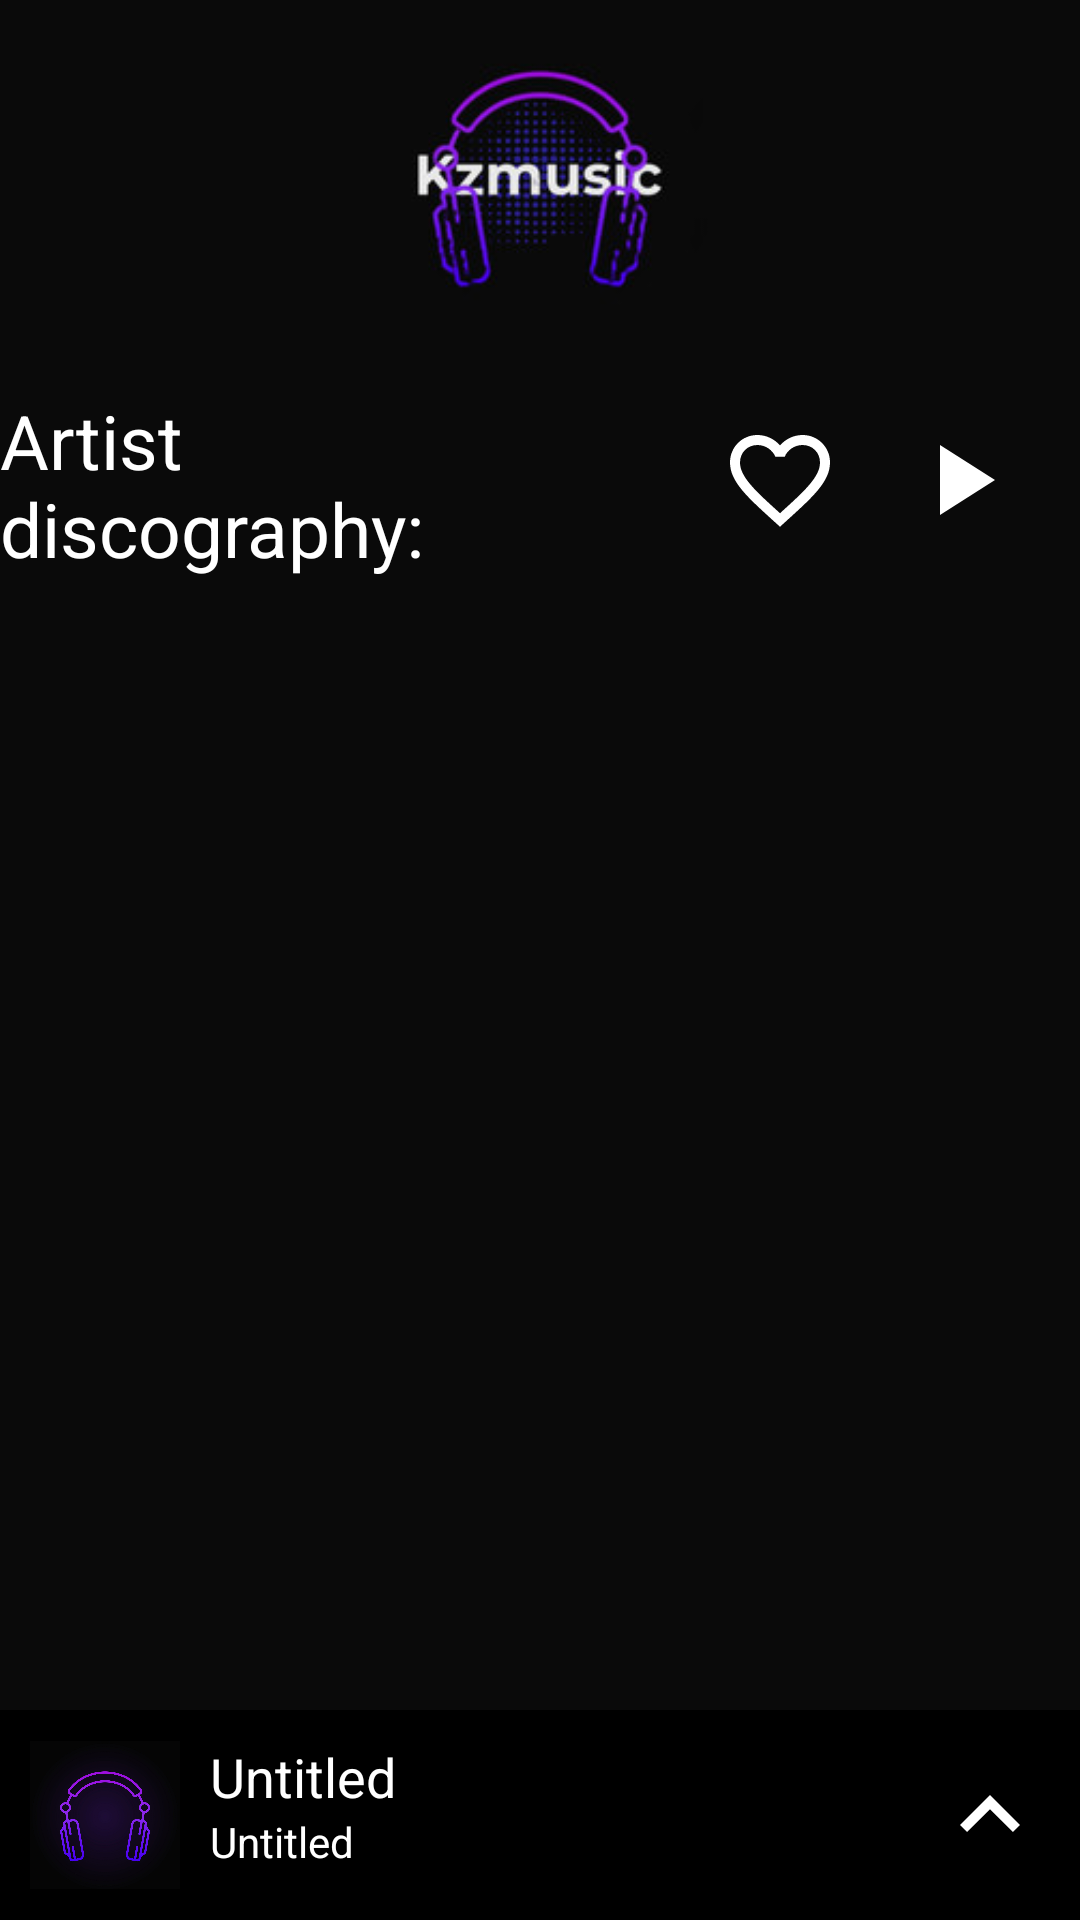

Icon click points for this 1080 x 1920 phone screenshot, format point (x, y):
liked off: point (780, 481)
play: point (967, 480)
